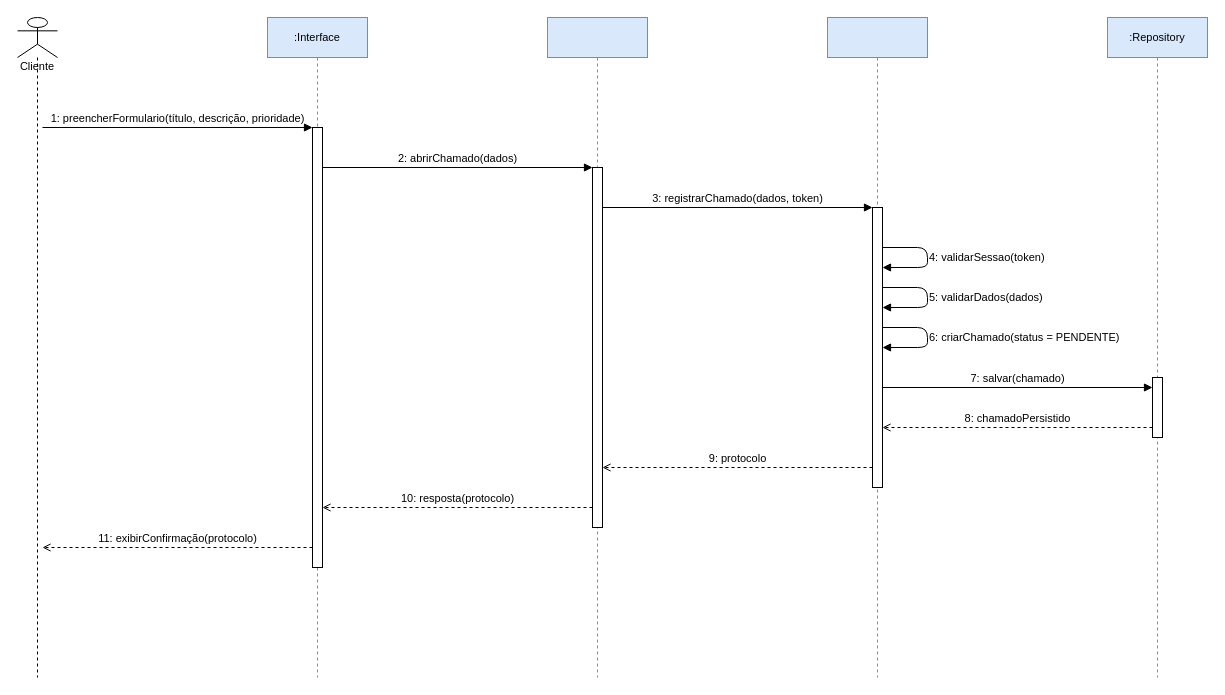
Some shapes in this 1225 by 695 pixel diagram are drawn without their labels. The shapes that lost their labels are listed below. From the top down, each one's box as (x1, y1, x2, y2) in pixels, then its label:
(546, 16, 648, 678): :Controller
(826, 16, 928, 678): :Service
